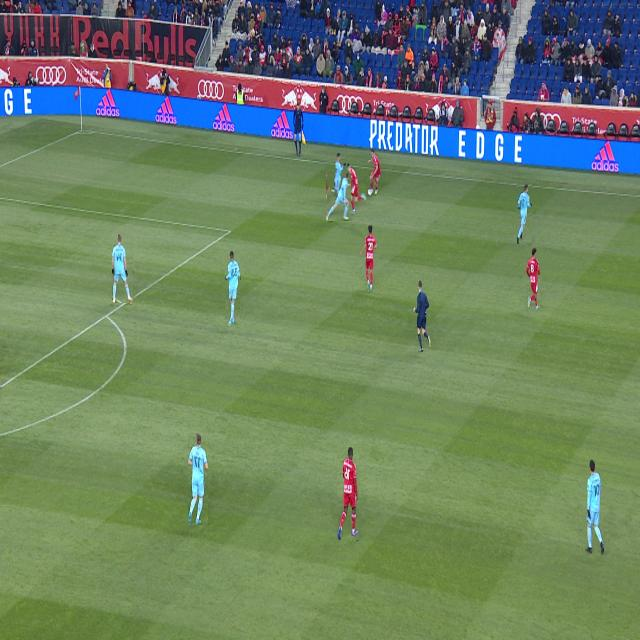football: (367, 189, 372, 196)
player: (338, 448, 359, 540), (188, 433, 208, 525), (585, 460, 604, 554), (112, 234, 133, 303), (326, 174, 351, 221), (360, 225, 377, 292), (226, 251, 240, 327), (347, 163, 367, 214), (517, 184, 532, 244), (526, 248, 540, 310), (368, 149, 381, 195), (335, 153, 346, 197)
referee: (413, 280, 431, 352)
